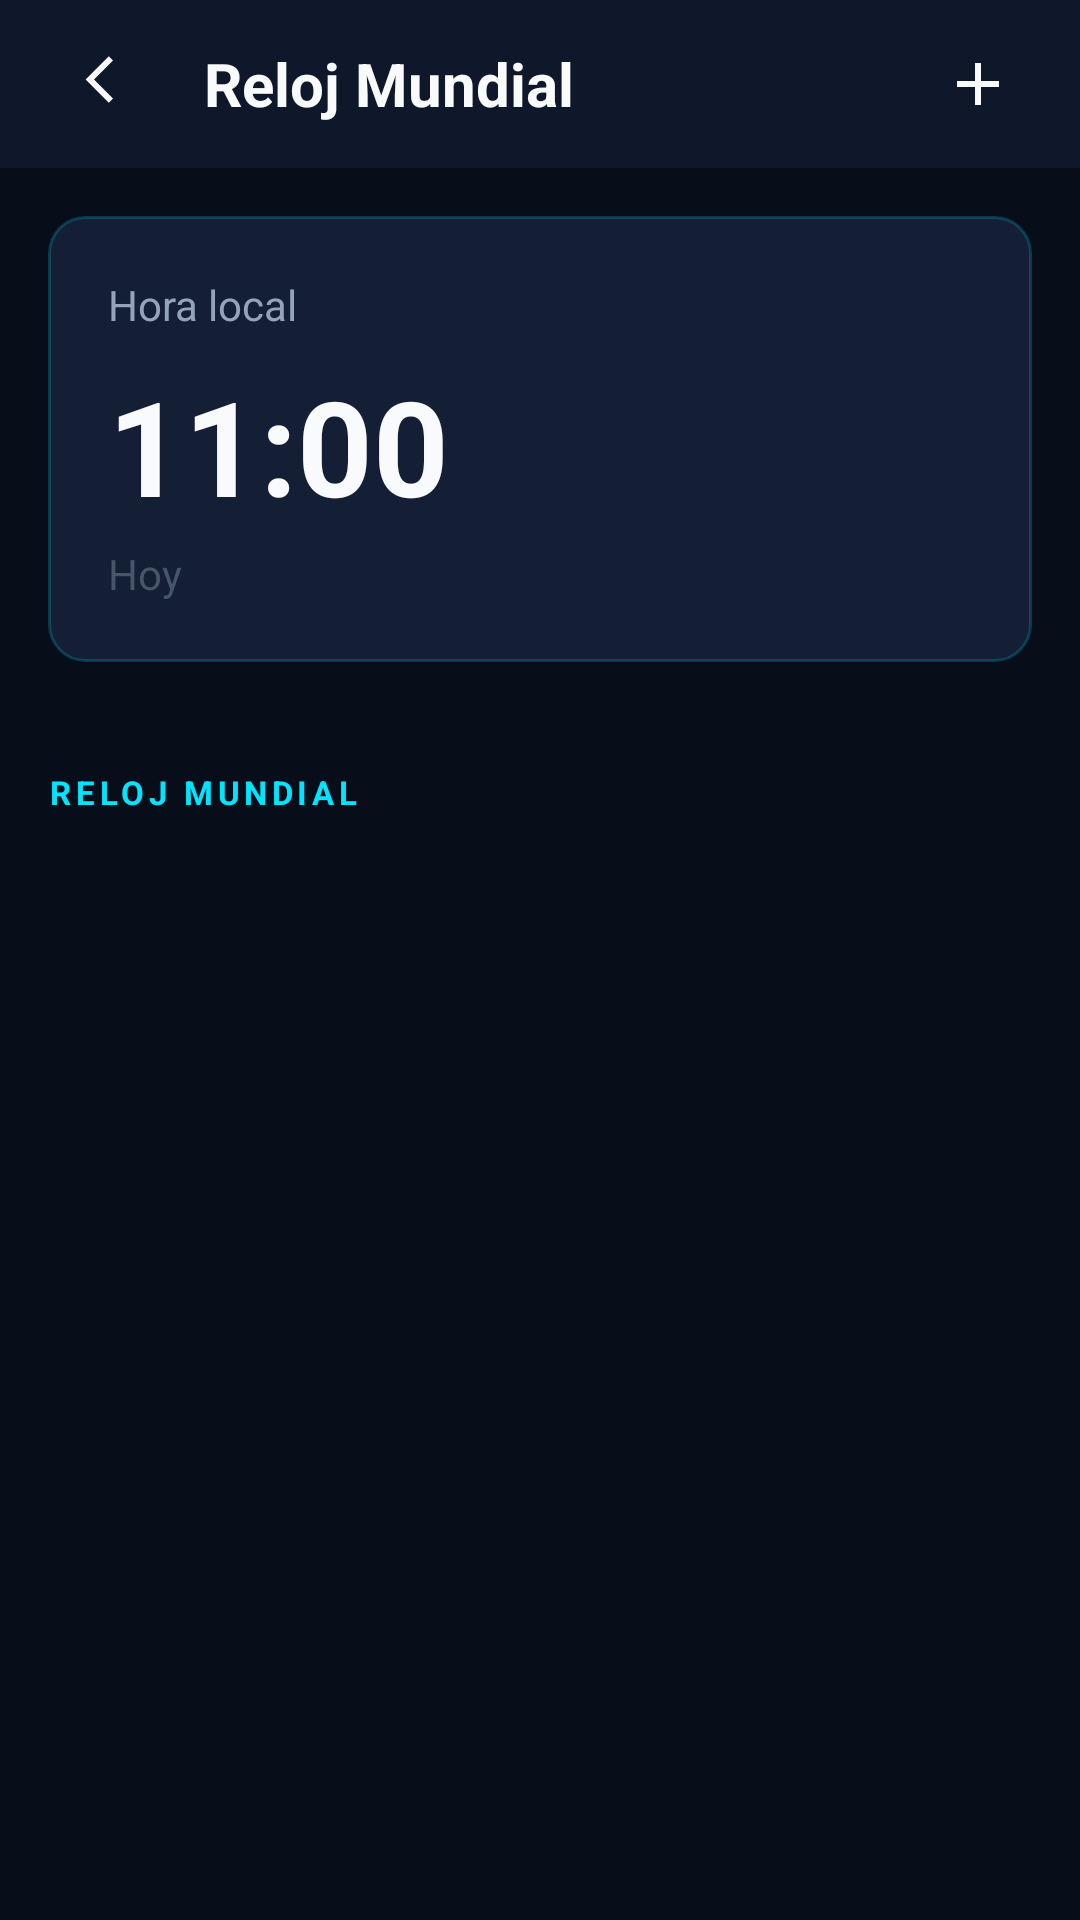

Named icons in this screenshot (1080 x 1920) and their bounding boxes, (left=x1, top=y1, right=x2, bottom=y2):
Atrás: (left=85, top=56, right=113, bottom=103)
Añadir ciudad: (left=957, top=63, right=999, bottom=105)
